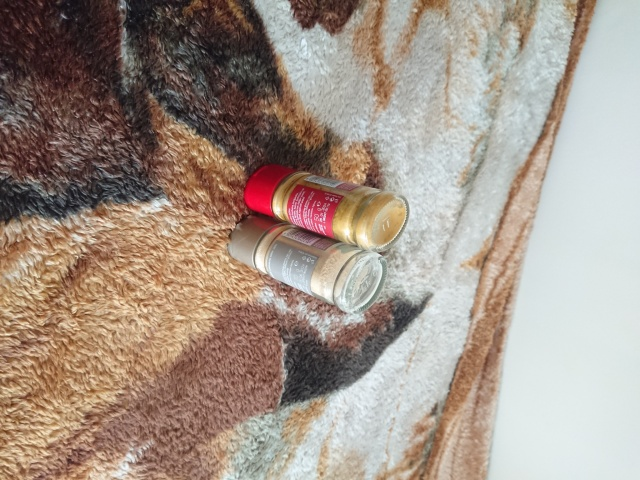Kotanyi Curry Spices Mix 70g: (242, 164, 412, 254)
Kotanyi Garlic Granules 70g: (225, 209, 390, 317)
